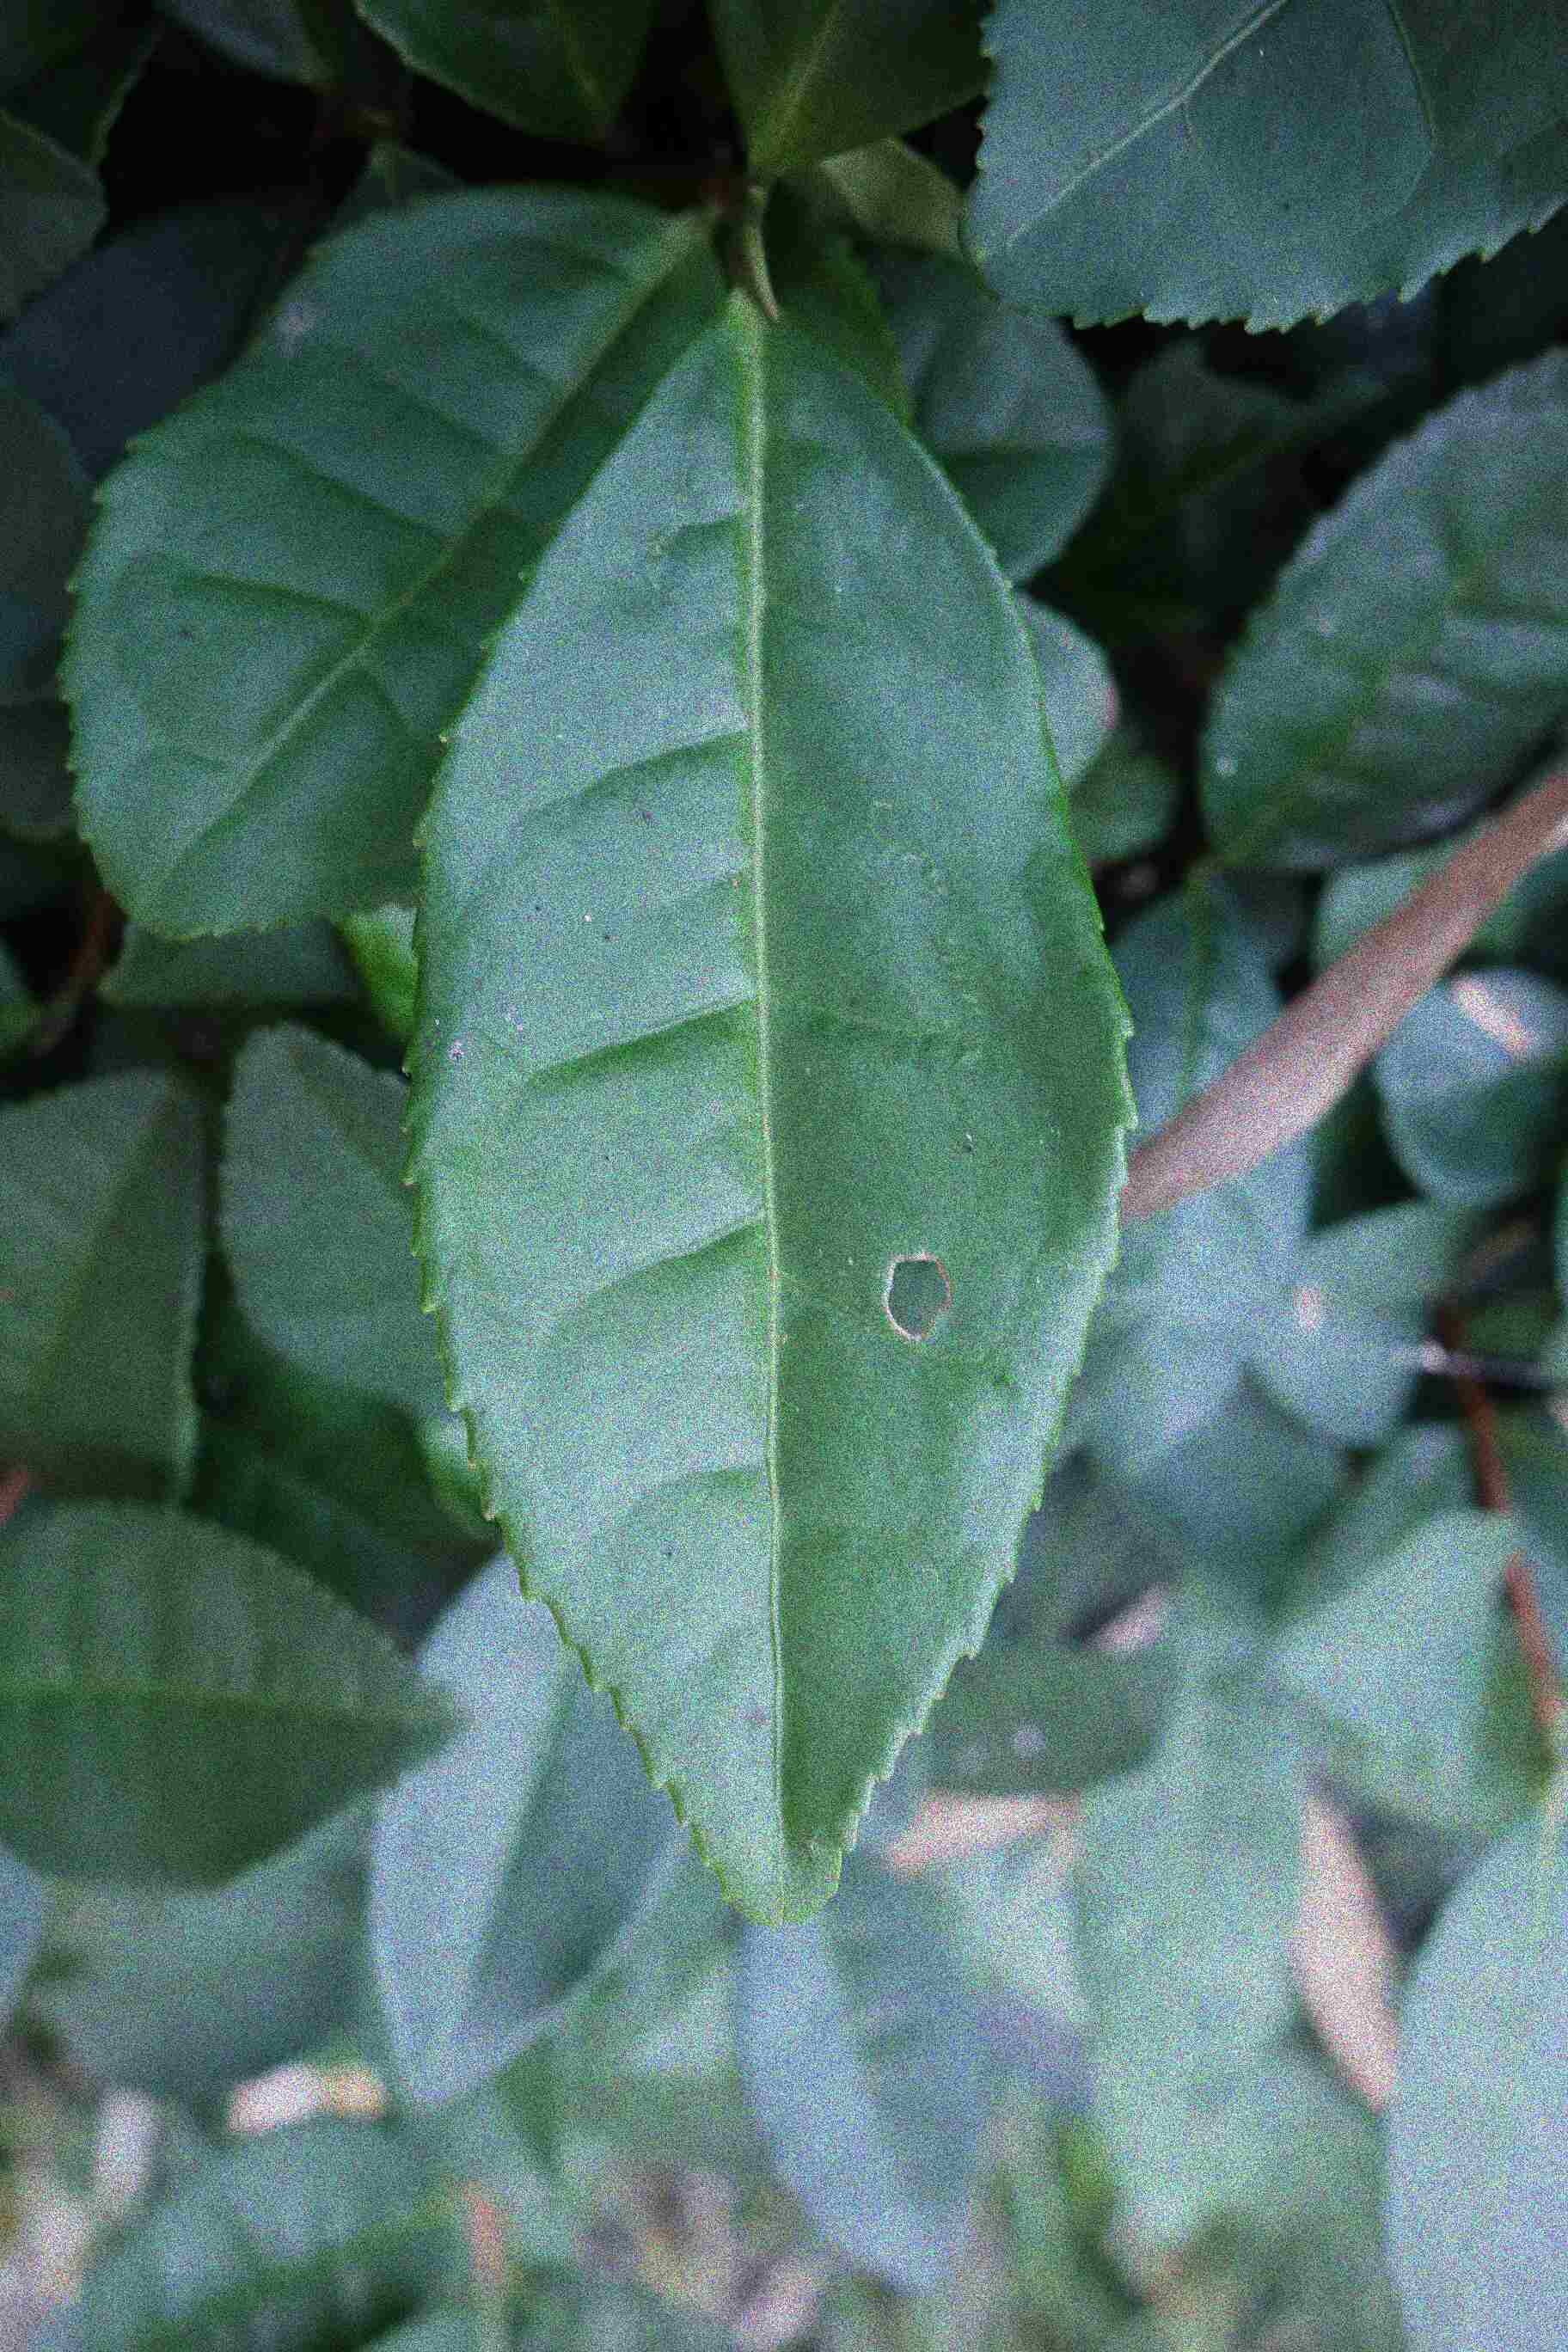chihuo_low: (406, 287, 1132, 1920)
